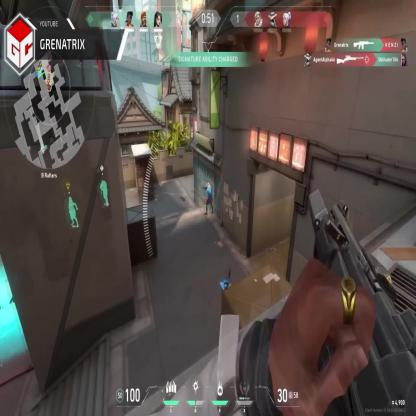enemy: (204, 181, 213, 216)
enemy_head: (207, 182, 210, 187)
